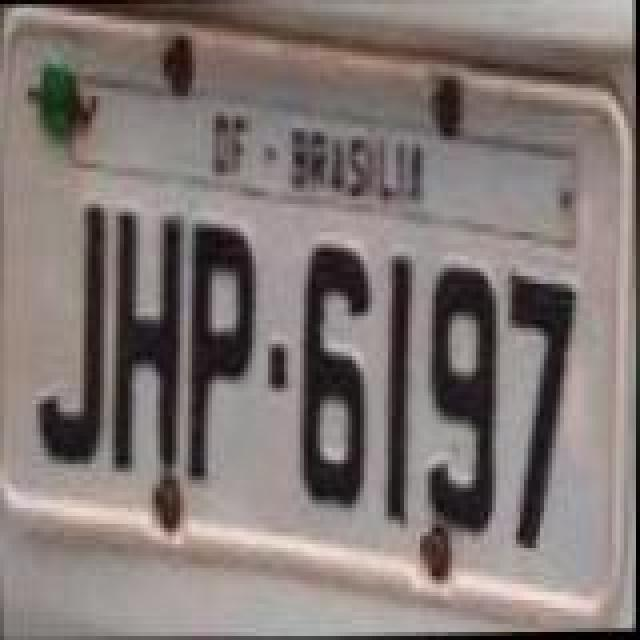1: (382, 248, 418, 528)
6: (294, 238, 374, 510)
7: (504, 268, 584, 556)
9: (422, 264, 506, 544)
H: (110, 202, 190, 474)
J: (30, 196, 110, 468)
P: (182, 216, 262, 488)
